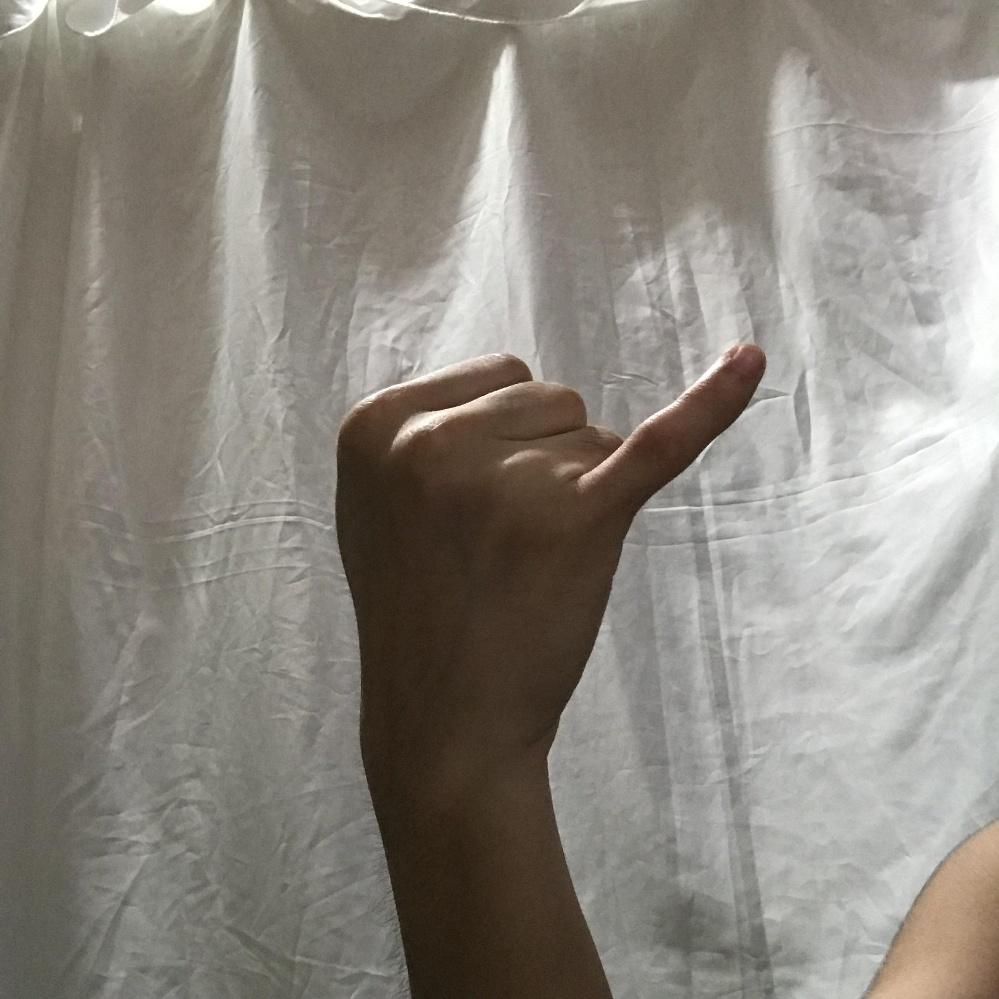j: (340, 328, 765, 747)
